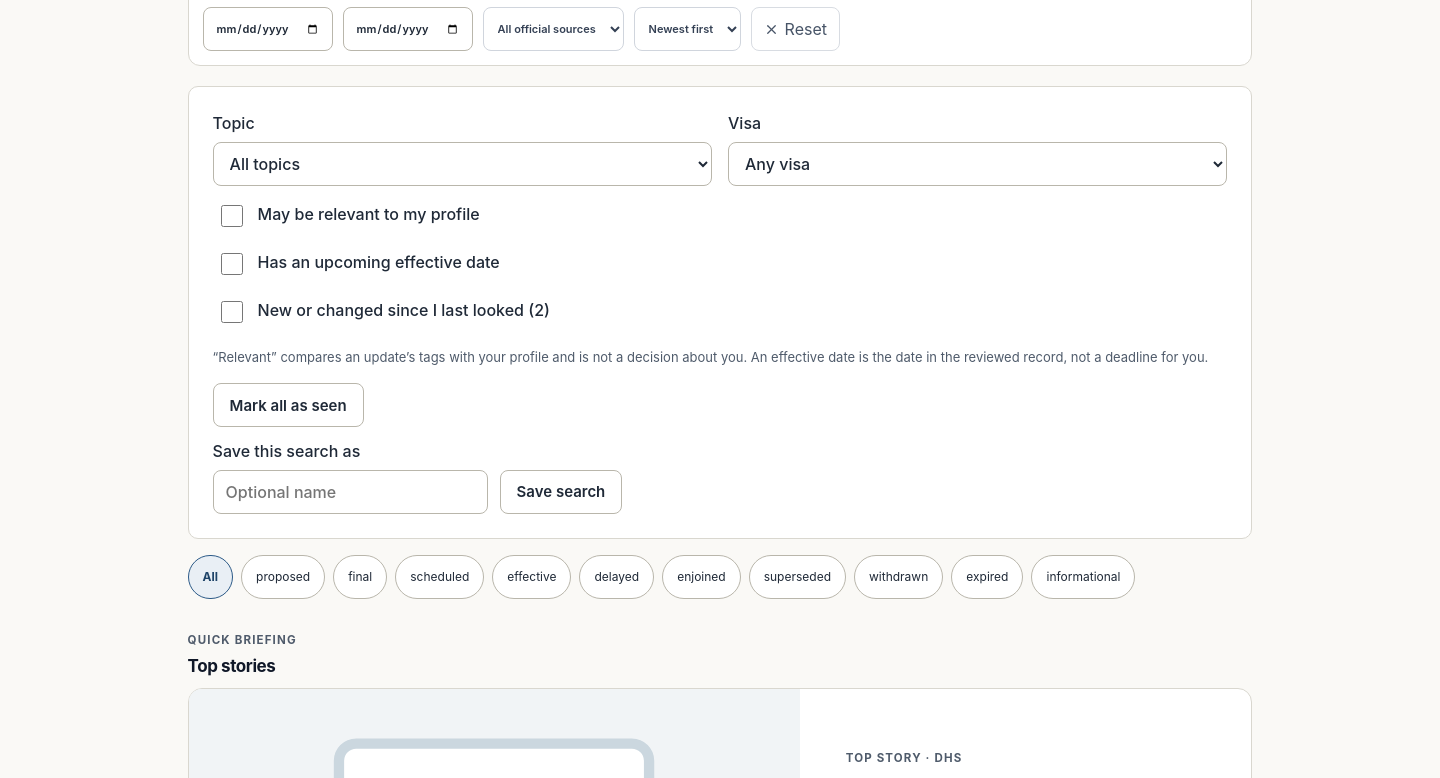
NewsPage discovery (free beta) › marks unread items, clears them with Mark all as seen, and filters to them
The width and height of the screenshot is (1440, 778).
(page scrolled)
Click the button "Mark all as seen": x=288, y=405 [213,383,364,427]
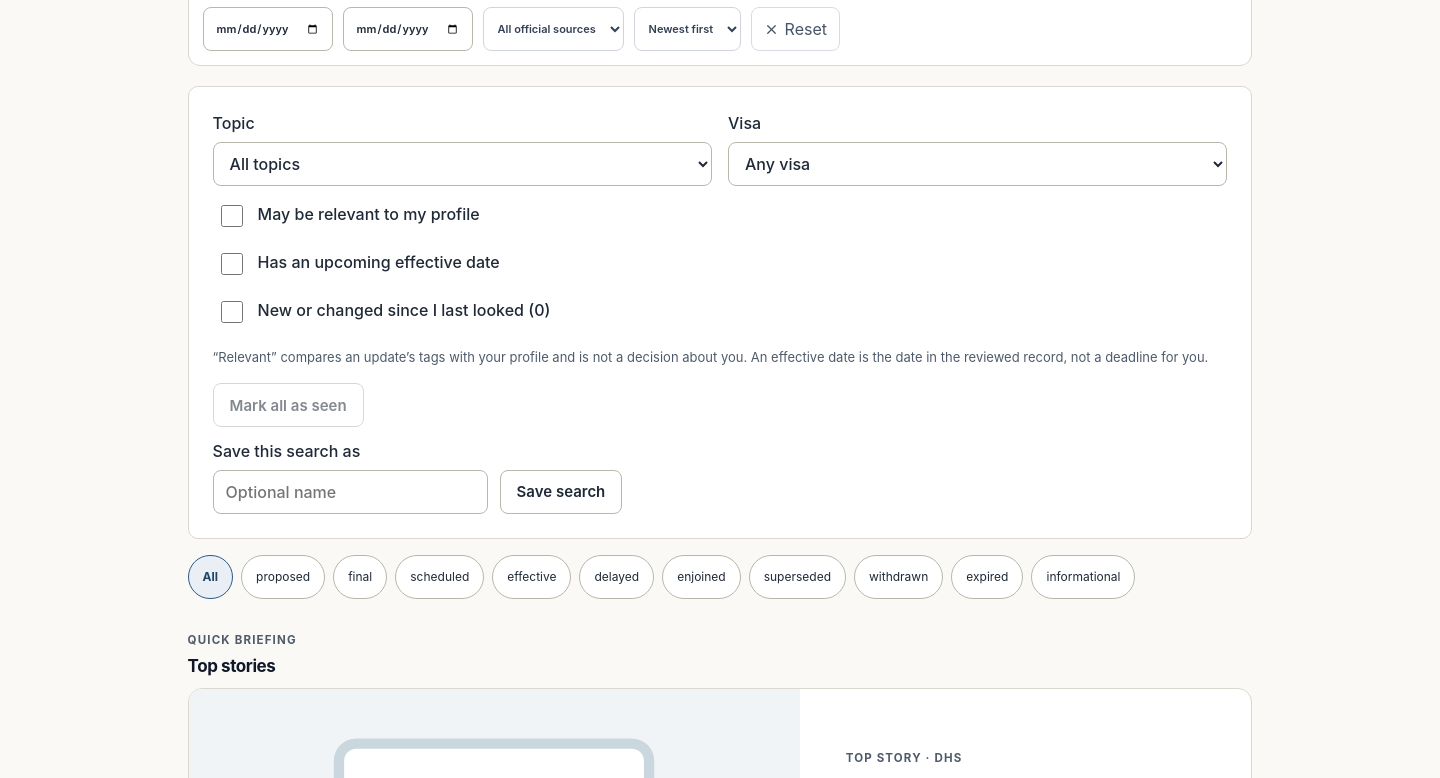
Click the checkbox labelled "New or changed since I last looked (0)": x=232, y=312 [221,301,243,323]
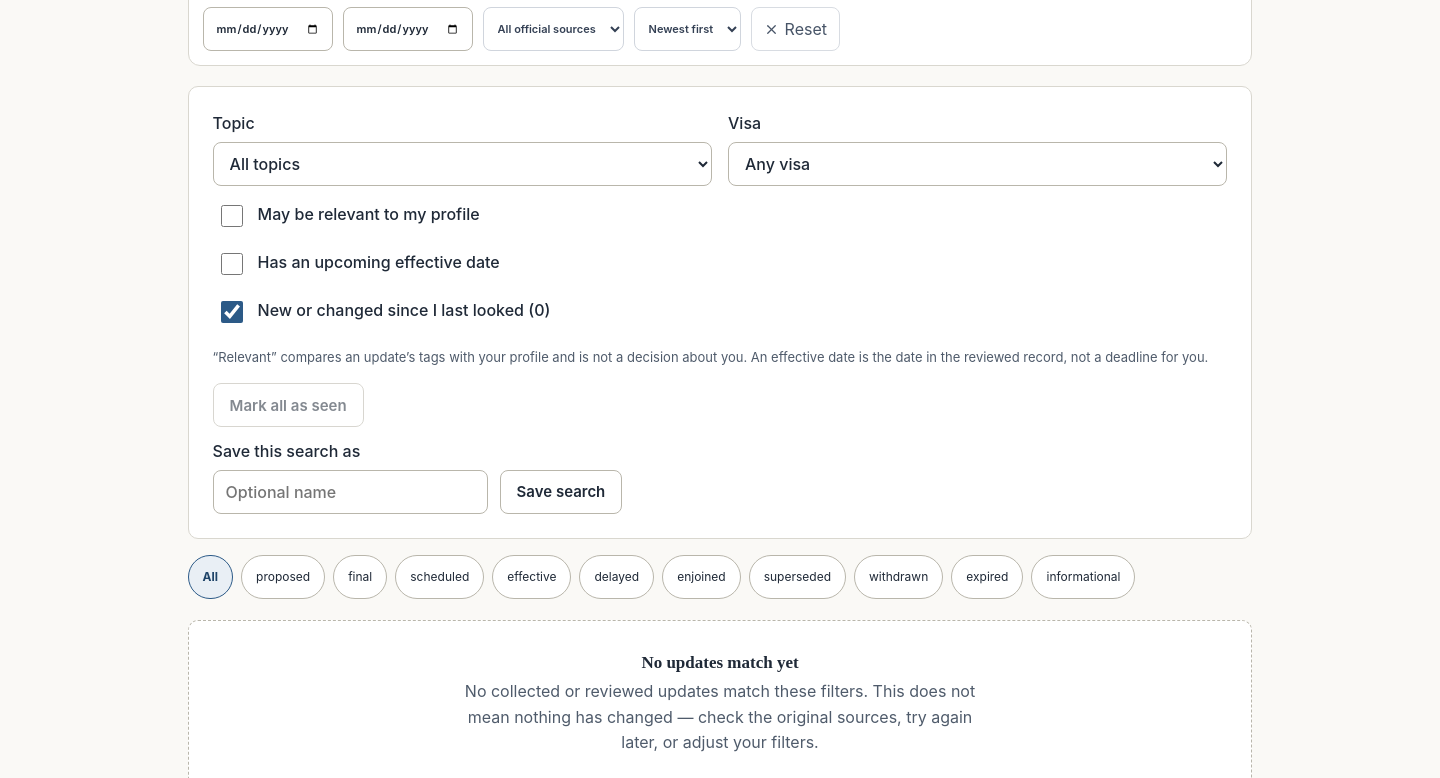
Result: the heading "No updates match yet" is shown at [641,653,799,672]
